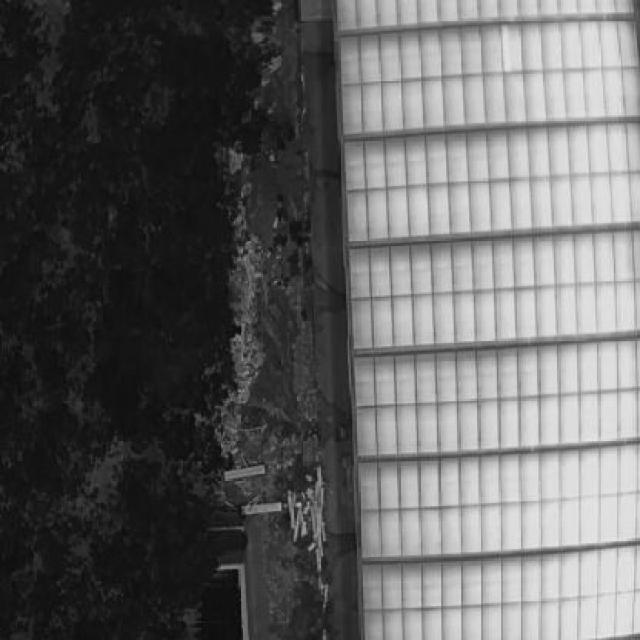diode: (500, 18, 512, 70)
